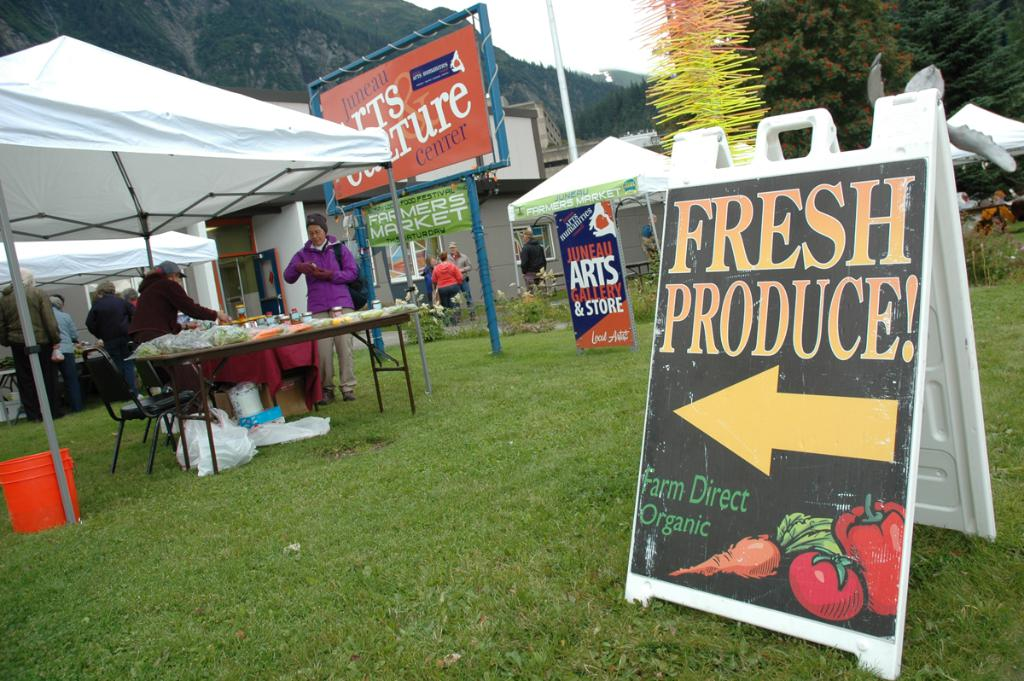Tomato: (785, 545, 870, 621)
